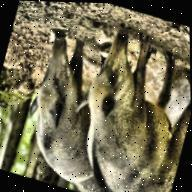boar: (53, 6, 192, 192), (0, 0, 128, 192)
